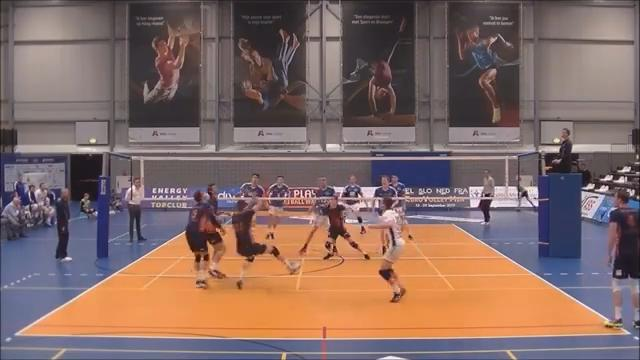Dig: (227, 193, 303, 290)
Player: (605, 190, 639, 328), (370, 197, 405, 302), (185, 191, 220, 287), (321, 196, 369, 259), (300, 177, 335, 254), (266, 176, 289, 239), (341, 175, 365, 233), (373, 176, 396, 214), (394, 200, 412, 239), (240, 173, 264, 197), (205, 183, 219, 214)
